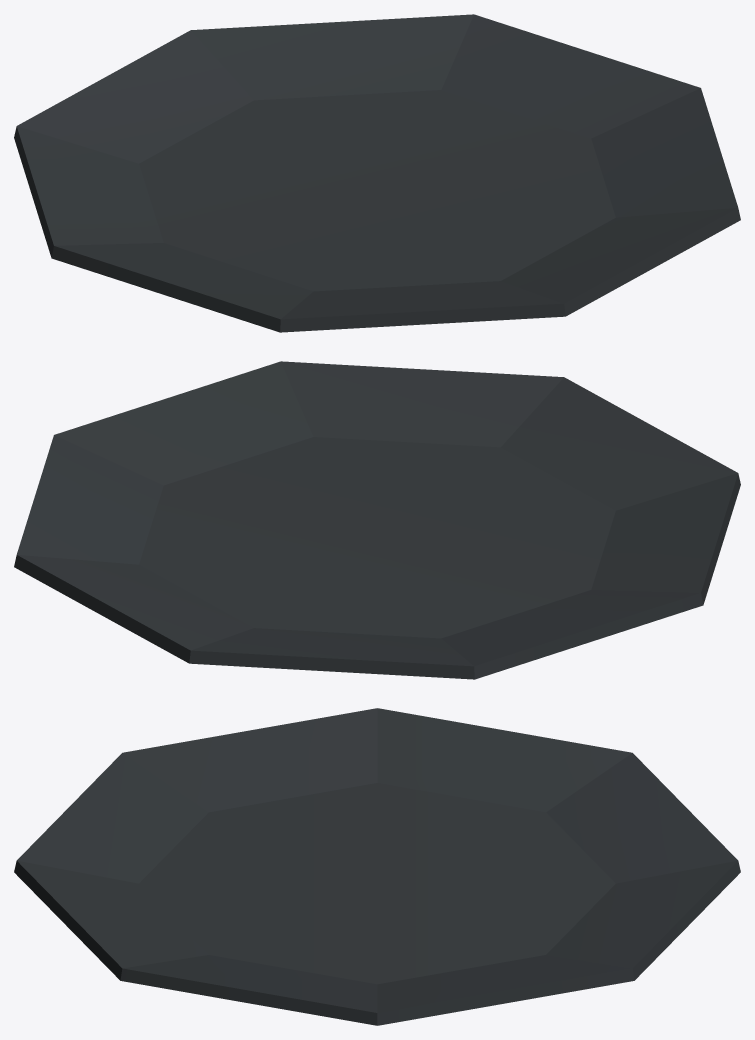
Rendered from Plate_01.fbx.
3 views of the same model, one above another, from view 1: azimuth 30°, elevation 25°; view 2: azimuth 150°, elevation 25°; view 3: azimuth 270°, elevation 25° (orthographic). The views are drawn at different scales.
Visible parts, largest first — view 1: Plate_01; view 2: Plate_01; view 3: Plate_01.
Part boxes in pixels (<box>): Plate_01: <box>14,14,740,332</box>; Plate_01: <box>14,361,740,679</box>; Plate_01: <box>14,708,740,1025</box>.
Size of the model in its own units: 0.303 by 0.016 by 0.303.
